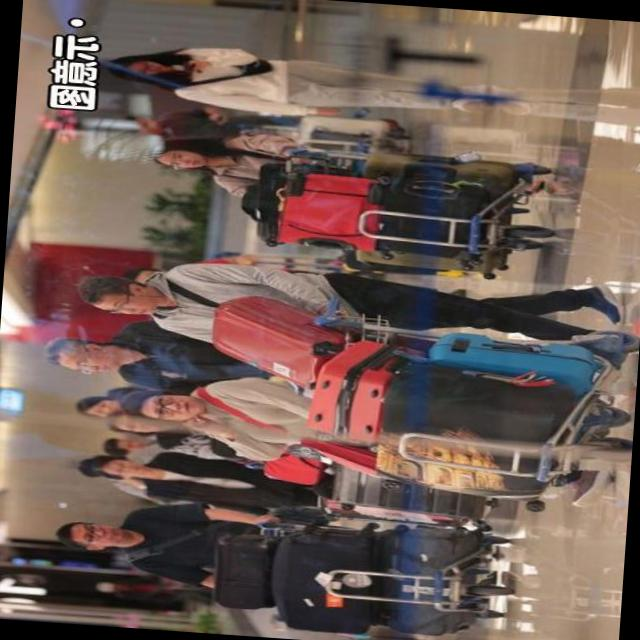bareface: (148, 391, 204, 423), (68, 350, 120, 376), (102, 294, 155, 316), (78, 522, 124, 546), (162, 148, 203, 170), (117, 412, 158, 433), (132, 58, 168, 78), (110, 458, 142, 477), (90, 397, 120, 416), (116, 436, 148, 453)
